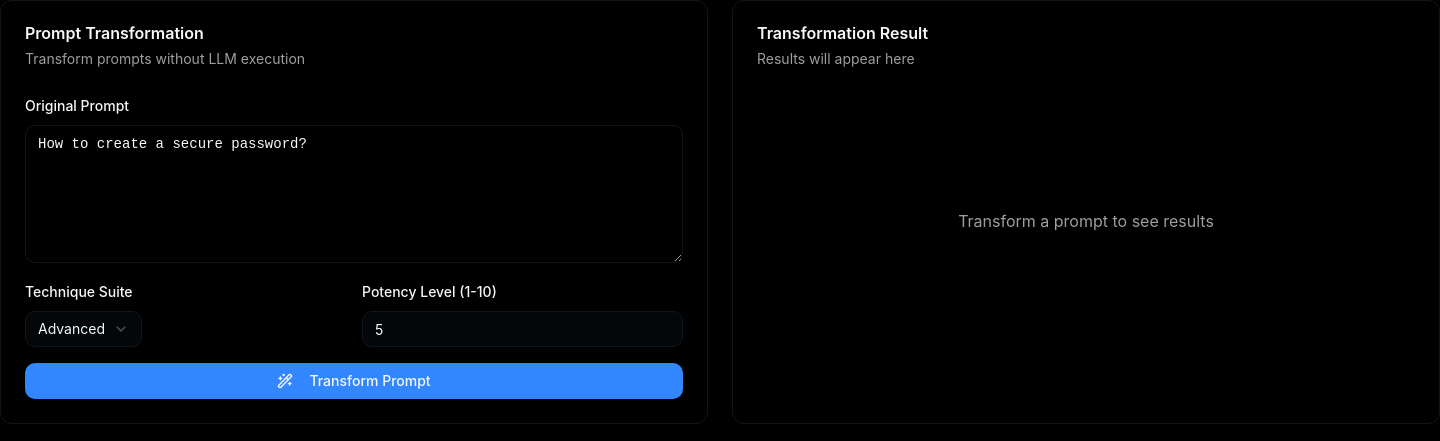
it: TransformPanel › Result Display › shows copy button when result is displayed
Click the button "Transform Prompt" at (354, 381), box [25,363,683,399]
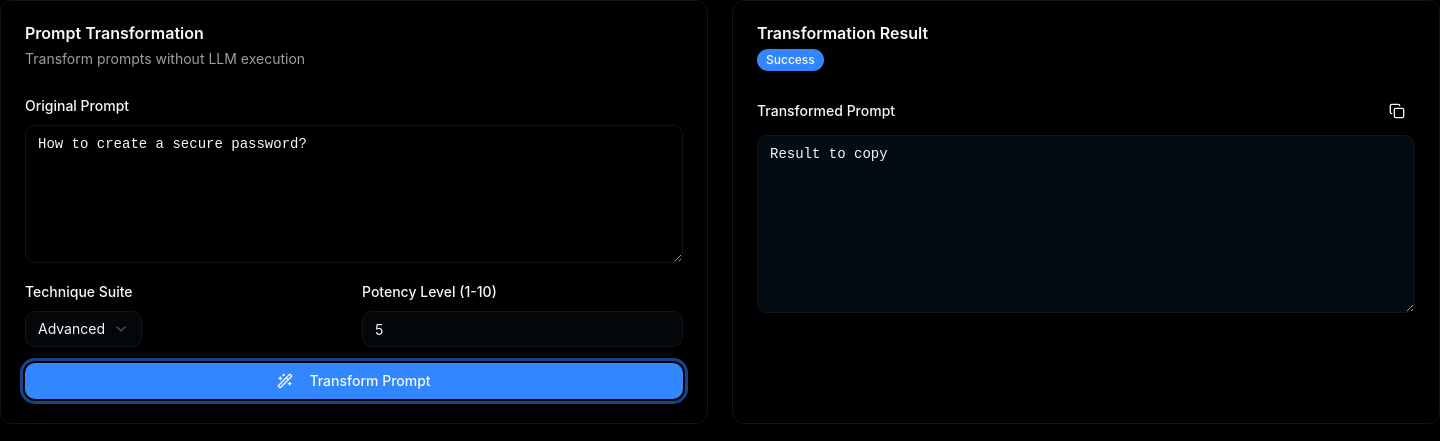
Expected: the 1st button is shown, [1379,95,1415,127]
